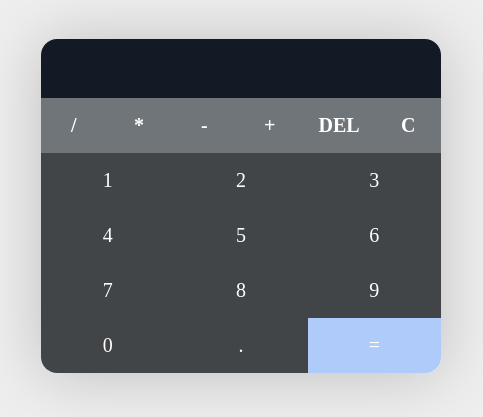
Scenario: App Component › should erase all equation and preview result, when C button is clicked
Click the button "2". click: (241, 180)
box: [174,153,308,208]
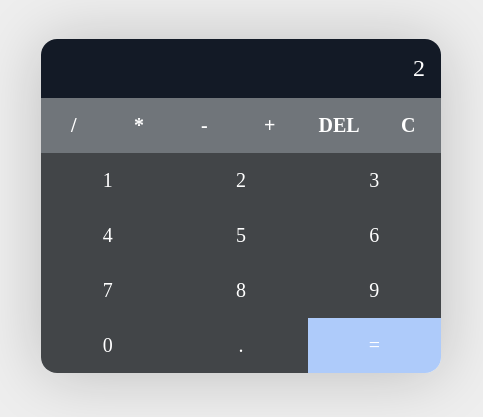
Click the button "+". click: (270, 126)
box: [237,98,302,153]
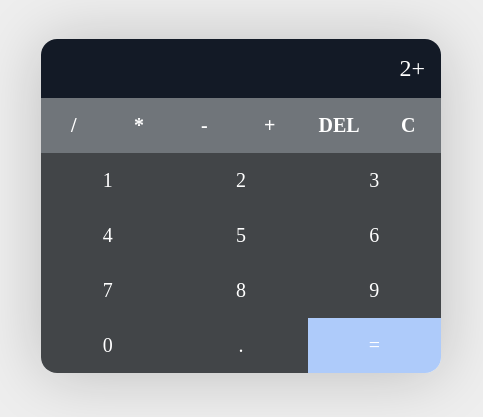
Click the button "2". click: (241, 180)
box: [174,153,308,208]
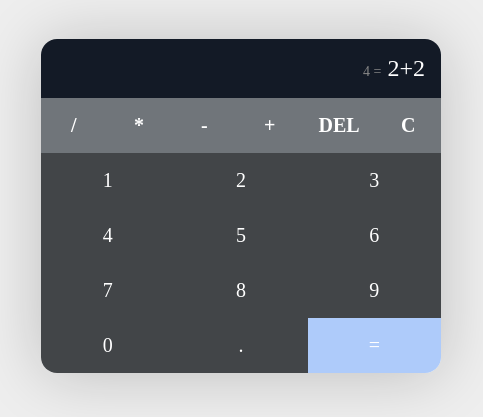
Check: the text "4 =" is shown, box [363,64,381,79]
Check: the text with test id "equation" reads "2+2", box [388,55,425,81]
Click the button "C". click: (408, 126)
box: [376,98,441,153]
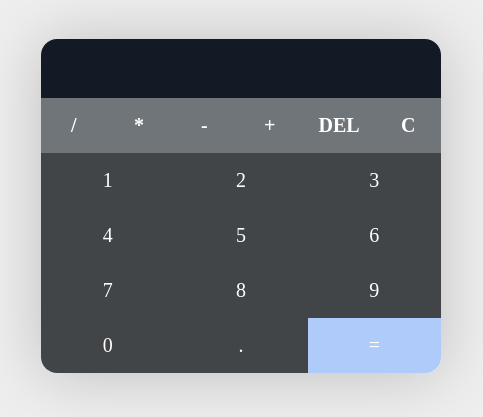
Check: the text "4 =" is gone
